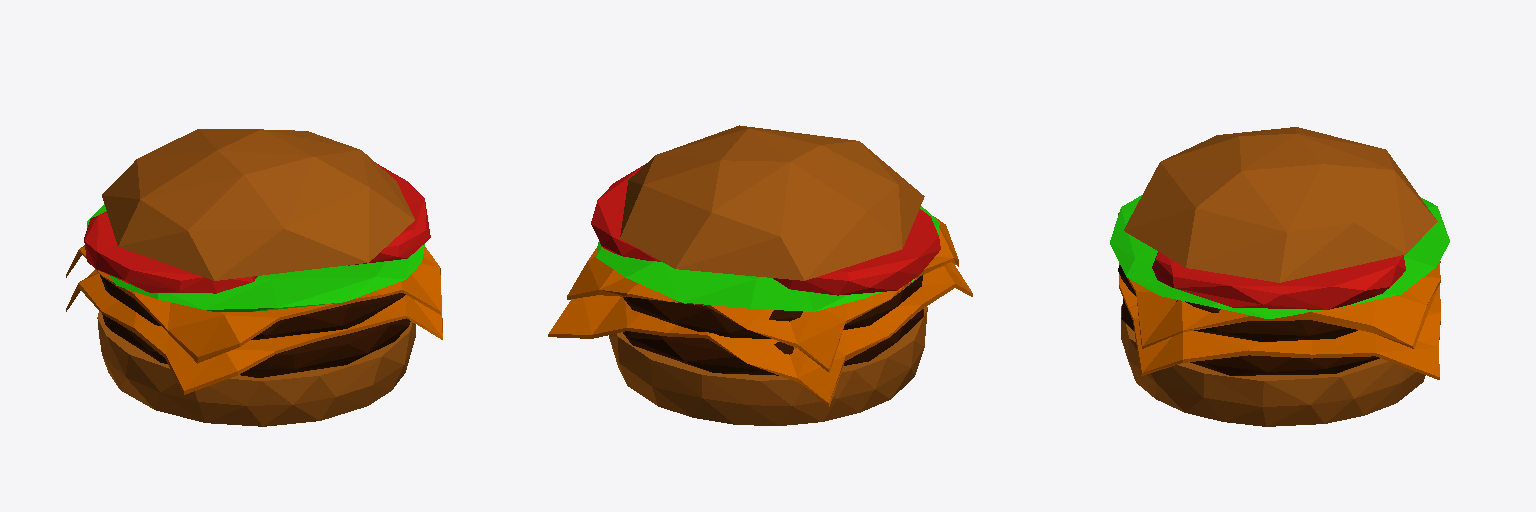
Rendered from burger.obj.
3 renders of one model, left to right at view 1: azimuth 30°, elevation 25°; view 2: azimuth 150°, elevation 25°; view 3: azimuth 270°, elevation 25°, orthographic.
Visible parts, largest first — view 1: Sphere.000_Sphere.003; view 2: Sphere.000_Sphere.003; view 3: Sphere.000_Sphere.003.
Part boxes in pixels (x1,y1,x2,y2): Sphere.000_Sphere.003: (66,129,442,426); Sphere.000_Sphere.003: (548,125,972,425); Sphere.000_Sphere.003: (1110,127,1449,426).
Size of the model in its own units: 2.12 by 1.4 by 2.01.